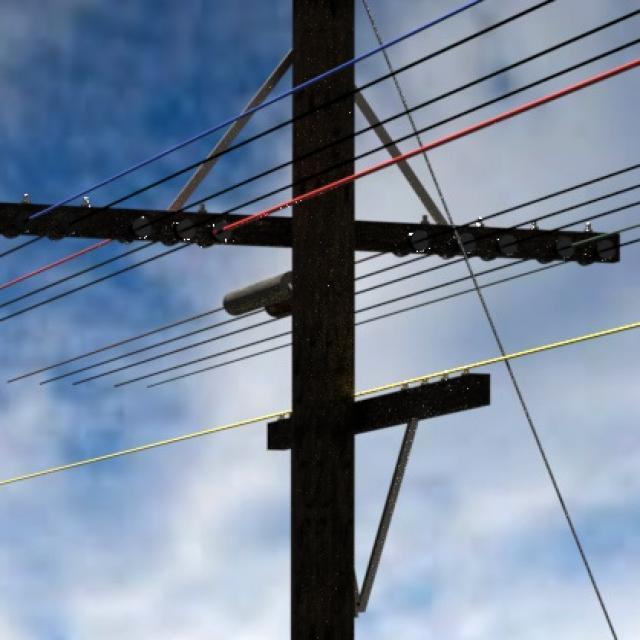crossarm: (0, 203, 622, 266), (265, 374, 490, 451)
pole: (277, 0, 355, 640)
